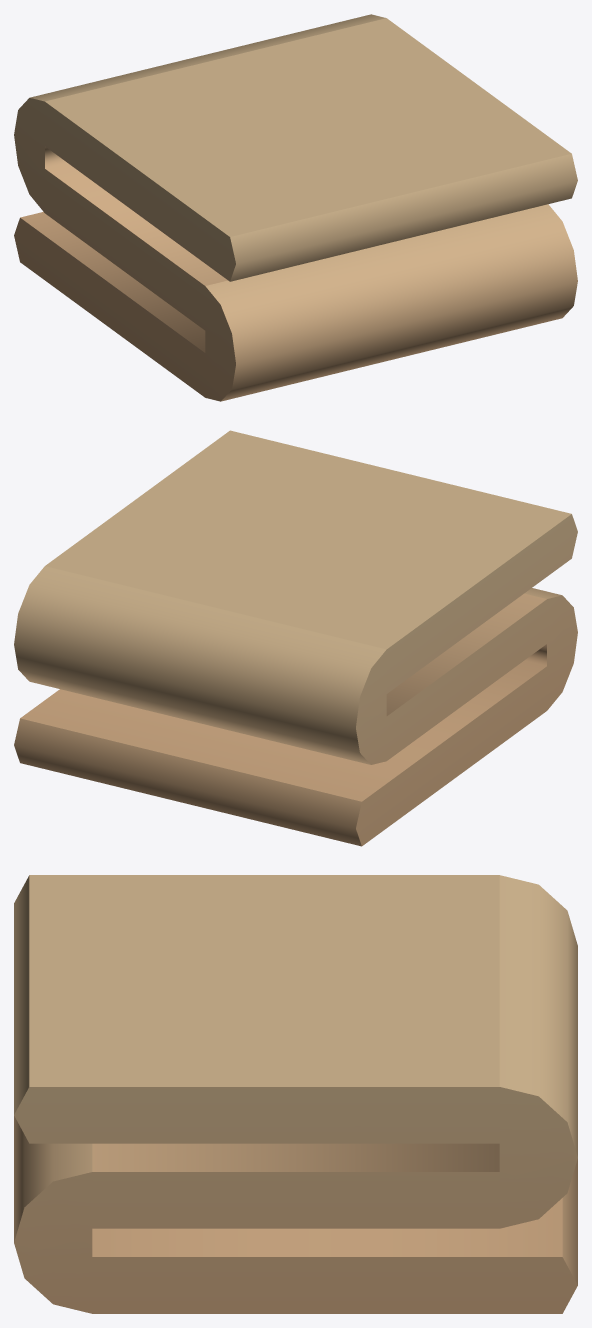
The model's file is plaid-double_0.glb.
3 views of the same model, one above another, from view 1: azimuth 30°, elevation 25°; view 2: azimuth 150°, elevation 25°; view 3: azimuth 270°, elevation 25° (orthographic). The views are drawn at different scales.
Parts seen in each view (by area): view 1: plaid-double; view 2: plaid-double; view 3: plaid-double.
Part boxes in pixels (bbox=[...]): plaid-double: bbox=[14, 14, 577, 401]; plaid-double: bbox=[14, 430, 577, 846]; plaid-double: bbox=[14, 875, 577, 1313].
Bounding box in the file's own units: 0.4 × 0.2 × 0.4502.
